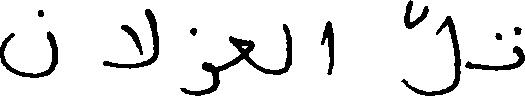X: (404, 0, 458, 95), (0, 5, 56, 82), (182, 23, 216, 95), (103, 20, 140, 73), (231, 31, 251, 70), (146, 4, 155, 70), (515, 22, 524, 72), (285, 19, 290, 77), (328, 16, 332, 79)
